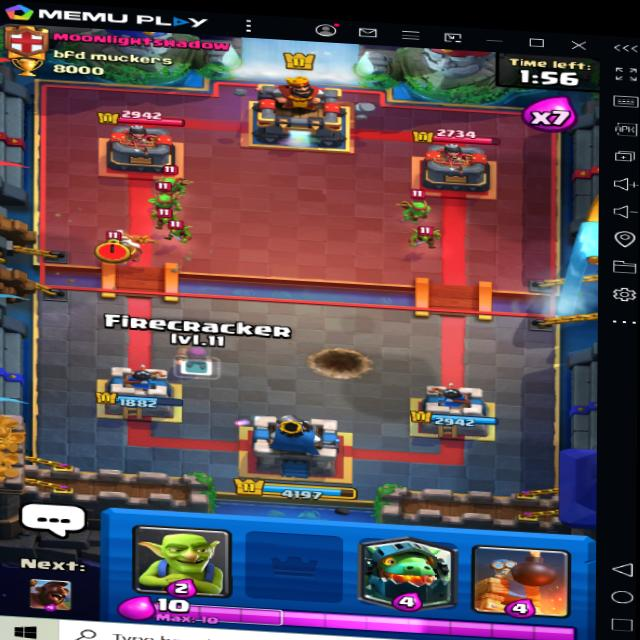goblin: (404, 227, 444, 251), (164, 220, 197, 246), (147, 208, 182, 232)
monk: (95, 223, 162, 268)
spear-goblin: (403, 192, 443, 223), (151, 192, 191, 219), (150, 171, 190, 197)
